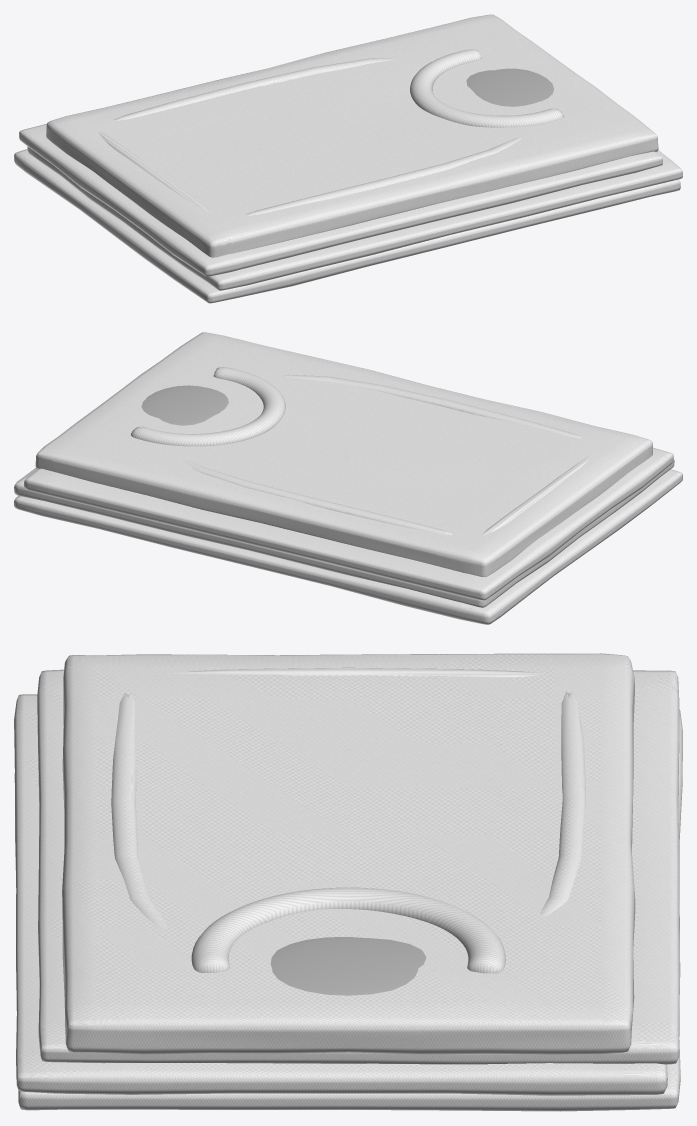
The model's file is tshirt.glb.
The picture shows the model from 3 angles, top to bottom: view 1: azimuth 30°, elevation 25°; view 2: azimuth 150°, elevation 25°; view 3: azimuth 270°, elevation 25°; orthographic projection. The views are drawn at different scales.
Parts seen in each view (by area): view 1: tshirt_layer, tshirt_fold2, tshirt_fold1, tshirt_fold0, tshirt_collar, tshirt_neck, tshirt_sleeve-1, tshirt_sleeve1, tshirt_hem; view 2: tshirt_layer, tshirt_fold2, tshirt_fold0, tshirt_fold1, tshirt_collar, tshirt_neck, tshirt_sleeve1, tshirt_sleeve-1, tshirt_hem; view 3: tshirt_layer, tshirt_fold2, tshirt_fold1, tshirt_fold0, tshirt_collar, tshirt_neck, tshirt_sleeve-1, tshirt_sleeve1, tshirt_hem.
Part boxes in pixels (box(x1,y1,x2,y2)): tshirt_layer: box(46, 14, 658, 257); tshirt_fold2: box(19, 124, 662, 276); tshirt_fold1: box(27, 146, 682, 290); tshirt_fold0: box(14, 149, 680, 303); tshirt_collar: box(410, 49, 563, 127); tshirt_neck: box(466, 68, 553, 106); tshirt_sleeve-1: box(246, 136, 521, 215); tshirt_sleeve1: box(113, 57, 398, 120); tshirt_hem: box(98, 131, 211, 213); tshirt_layer: box(35, 332, 652, 577); tshirt_fold2: box(24, 447, 673, 600); tshirt_fold0: box(14, 469, 682, 624); tshirt_fold1: box(14, 459, 674, 607); tshirt_collar: box(131, 367, 285, 446); tshirt_neck: box(141, 385, 228, 425); tshirt_sleeve1: box(182, 459, 453, 535); tshirt_sleeve-1: box(283, 374, 583, 438); tshirt_hem: box(482, 451, 596, 535); tshirt_layer: box(62, 653, 635, 1054); tshirt_fold2: box(37, 669, 679, 1064); tshirt_fold1: box(14, 694, 667, 1095); tshirt_fold0: box(14, 709, 682, 1111); tshirt_collar: box(191, 887, 505, 973); tshirt_neck: box(270, 937, 426, 995); tshirt_sleeve-1: box(111, 693, 167, 929); tshirt_sleeve1: box(539, 692, 585, 919); tshirt_hem: box(164, 667, 543, 677).
Bounding box in the file's own units: 28.25 × 3.33 × 20.19.
Materials: 3 (3 with a texture image).
